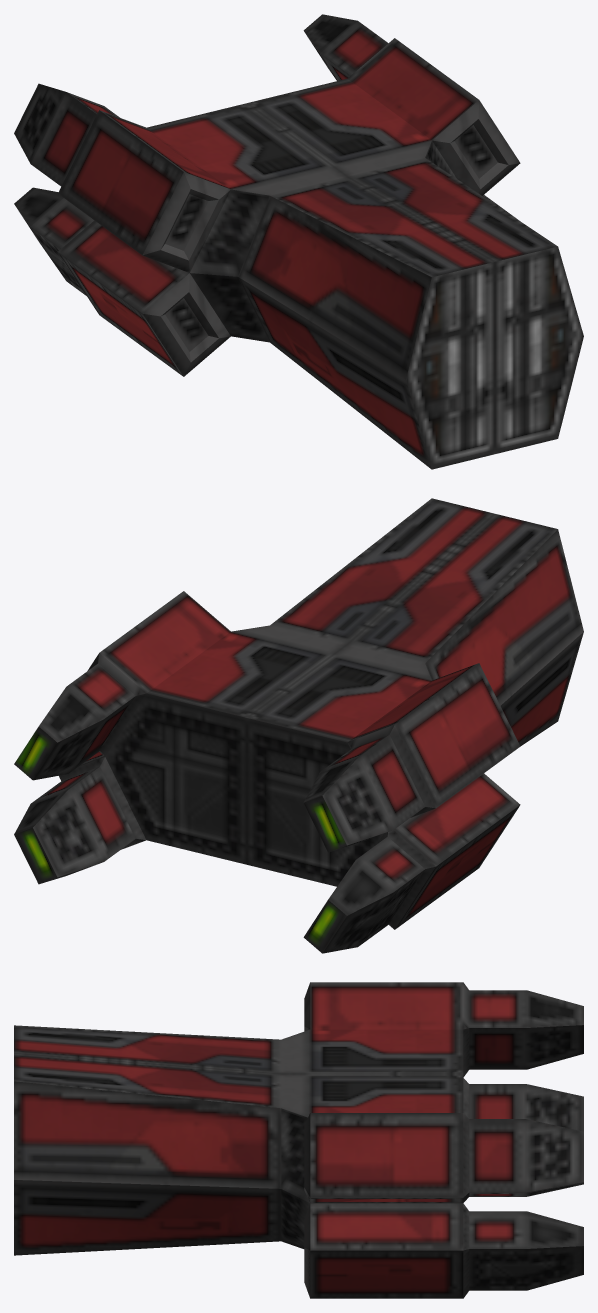
Rendered from BFP_MidHullSection_02.FBX.
3 views of the same model, one above another, from view 1: azimuth 30°, elevation 25°; view 2: azimuth 150°, elevation 25°; view 3: azimuth 270°, elevation 25° (orthographic). The views are drawn at different scales.
Parts seen in each view (by area): view 1: BFP_MidHullSection_02; view 2: BFP_MidHullSection_02; view 3: BFP_MidHullSection_02.
Boxes of the visible parts, x1=… form: BFP_MidHullSection_02: x1=14, y1=14, x2=583, y2=469; BFP_MidHullSection_02: x1=14, y1=498, x2=583, y2=953; BFP_MidHullSection_02: x1=14, y1=982, x2=583, y2=1298.
Bounding box in the file's own units: 255 × 132 × 367.
1 material, 1 textured.
